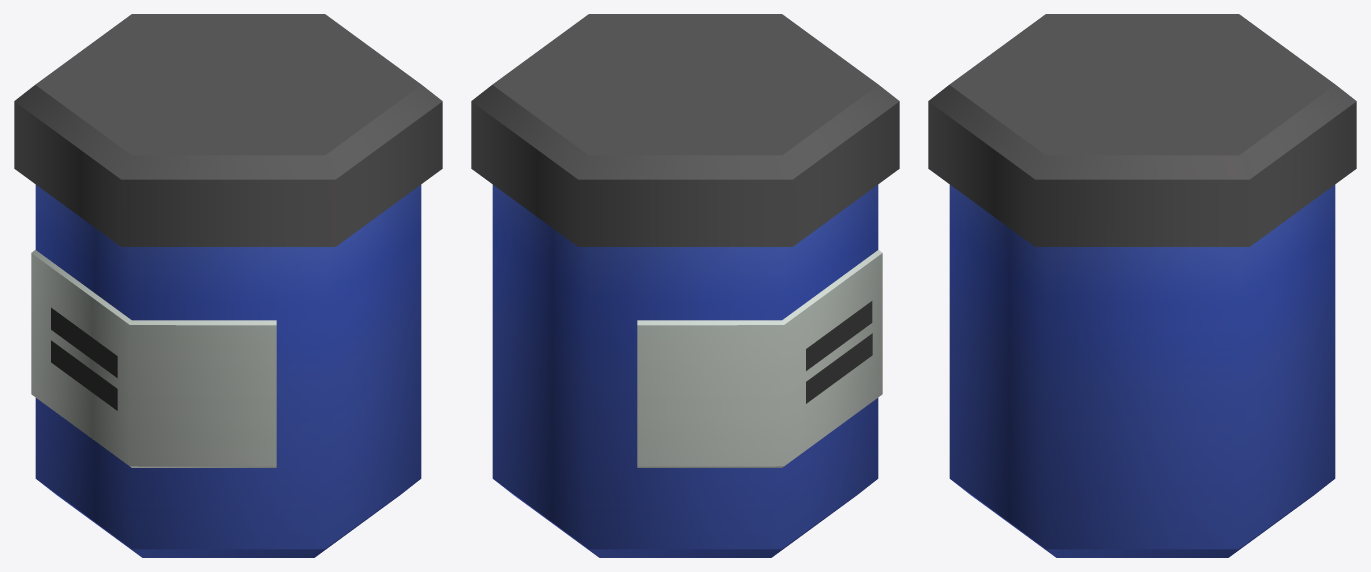
The model's file is Jar_1_E.fbx.
3 renders of one model, left to right at view 1: azimuth 30°, elevation 25°; view 2: azimuth 150°, elevation 25°; view 3: azimuth 270°, elevation 25°, orthographic.
Parts seen in each view (by area): view 1: Jar_1_E; view 2: Jar_1_E; view 3: Jar_1_E.
Boxes of the visible parts, x1,y1,x2,y2 form: Jar_1_E: (14,14,442,557); Jar_1_E: (471,14,899,557); Jar_1_E: (928,14,1356,557).
Size of the model in its own units: 17.99 by 21.94 by 20.77.
